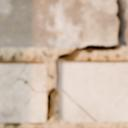brick: (61, 62, 127, 121), (0, 63, 45, 121), (61, 93, 91, 121)
broken_brick: (0, 0, 117, 48), (123, 0, 127, 47)
crack: (0, 0, 126, 127)
